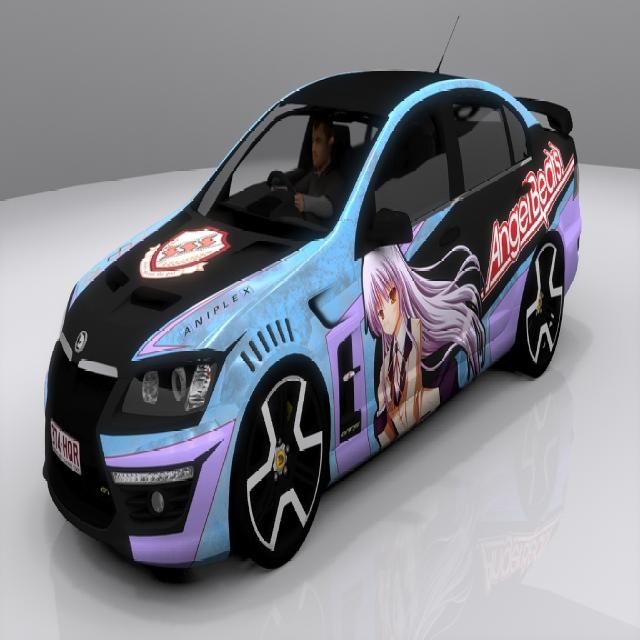car: (40, 13, 581, 570)
